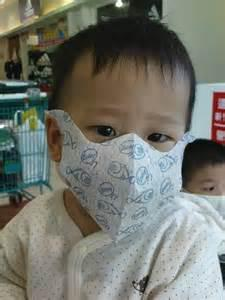OK: (60, 103, 192, 235), (194, 173, 225, 222)
